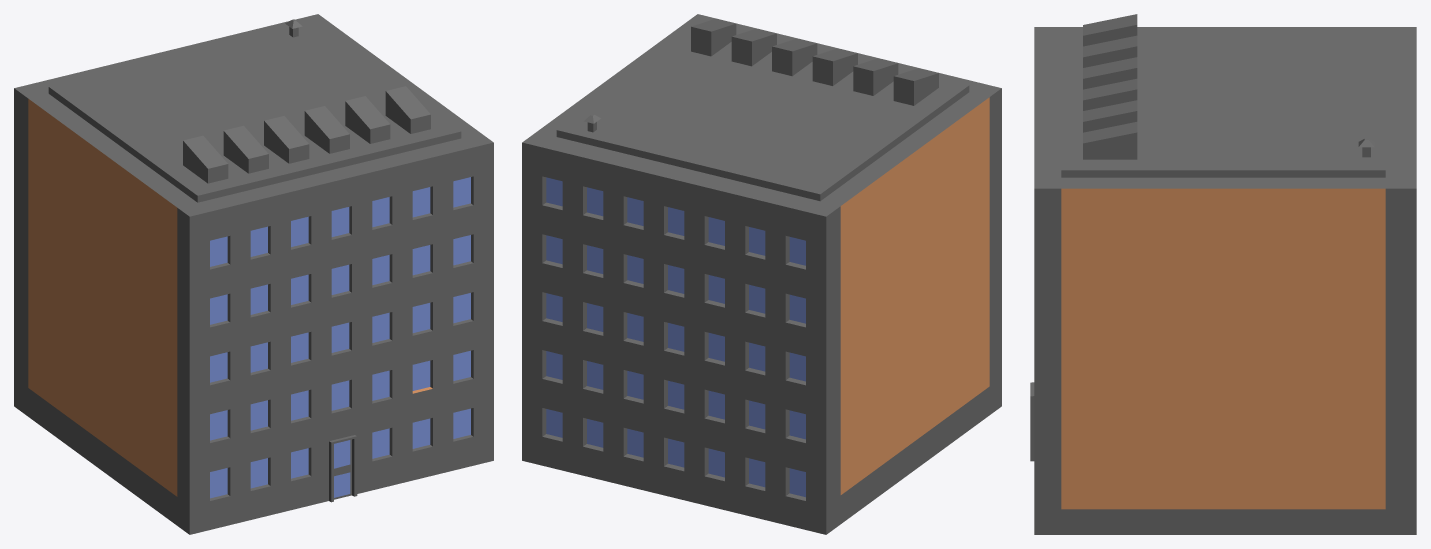
The model's file is hoghus.fbx.
3 views of the same model, side by side, from view 1: azimuth 30°, elevation 25°; view 2: azimuth 150°, elevation 25°; view 3: azimuth 270°, elevation 25° (orthographic). The views are drawn at different scales.
Visible parts, largest first — view 1: Cube; view 2: Cube; view 3: Cube.
Boxes of the visible parts, <box> form: Cube: <box>14,14,493,534</box>; Cube: <box>522,14,1001,534</box>; Cube: <box>1030,14,1416,534</box>.
Bounding box in the file's own units: 1201 × 1321 × 1214.
